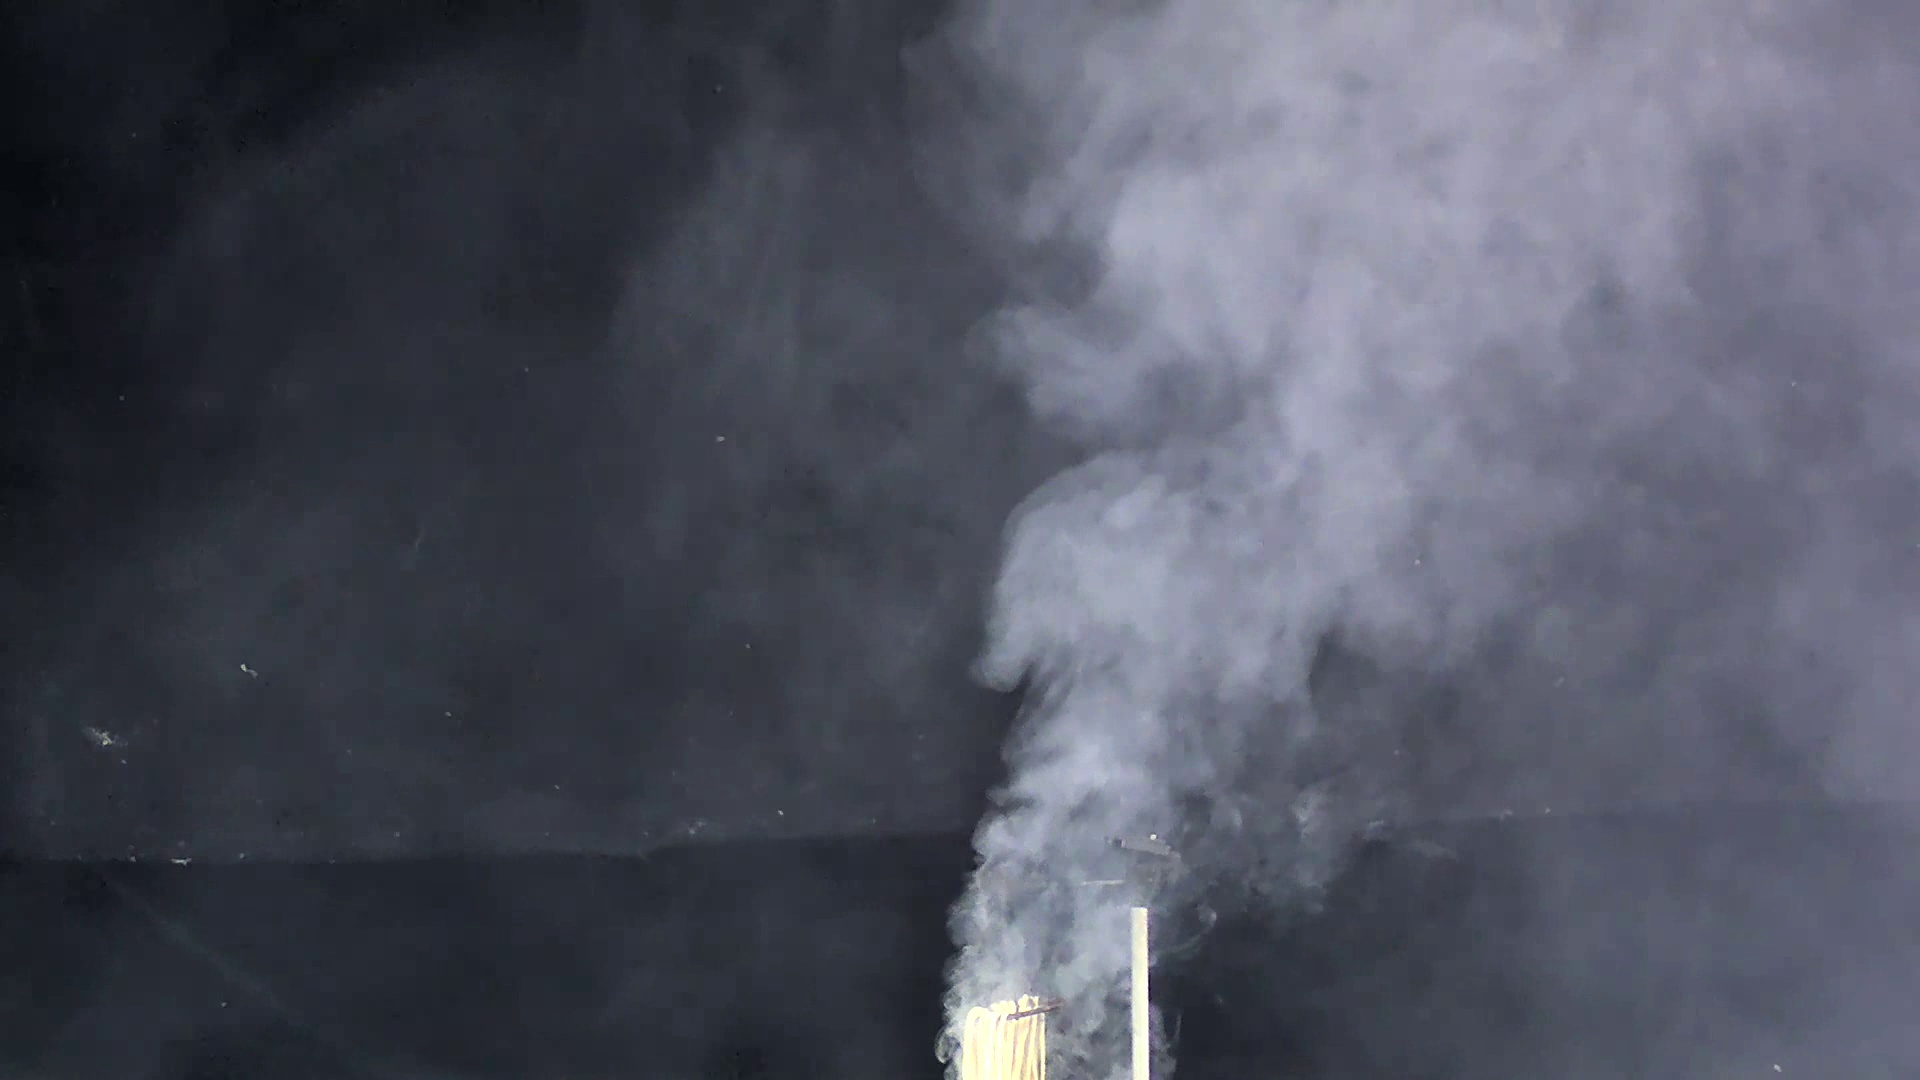smoke: (923, 295, 1513, 1001)
